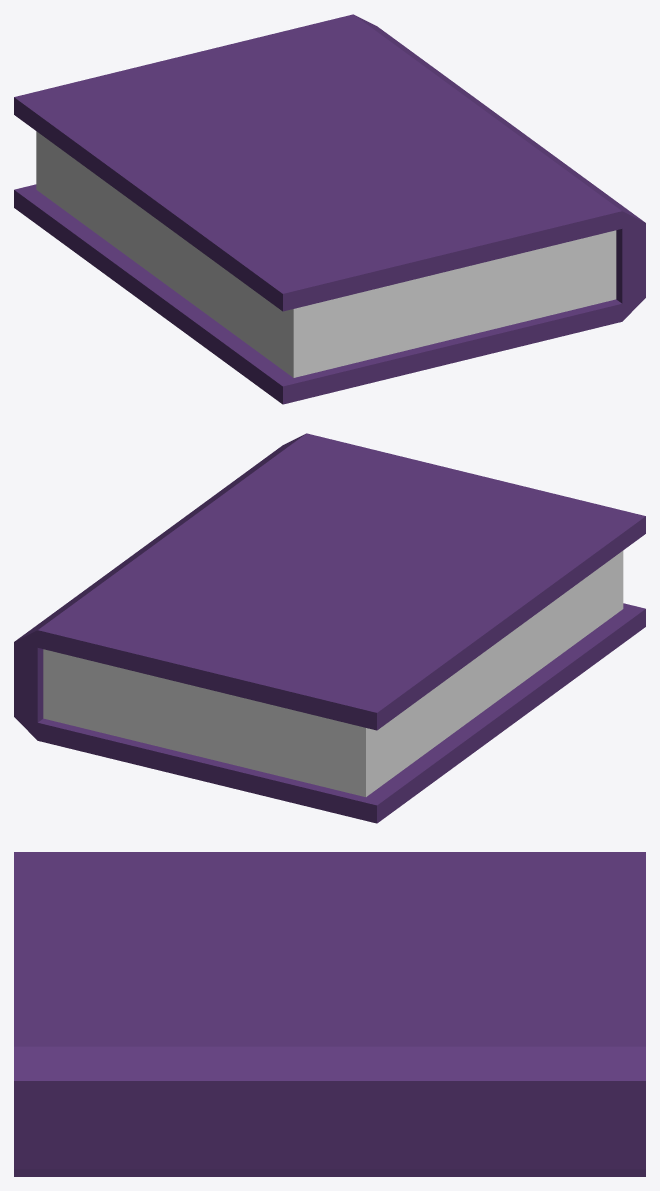
File: tome_3.glb
3 renders of one model, top to bottom at view 1: azimuth 30°, elevation 25°; view 2: azimuth 150°, elevation 25°; view 3: azimuth 270°, elevation 25°, orthographic. The views are drawn at different scales.
Visible parts, largest first — view 1: tome_3; view 2: tome_3; view 3: tome_3.
Part boxes in pixels (<box>): tome_3: <box>14,14,645,404</box>; tome_3: <box>14,433,645,823</box>; tome_3: <box>14,852,645,1176</box>.
Bounding box in the file's own units: 0.2255 × 0.0657 × 0.2891.
